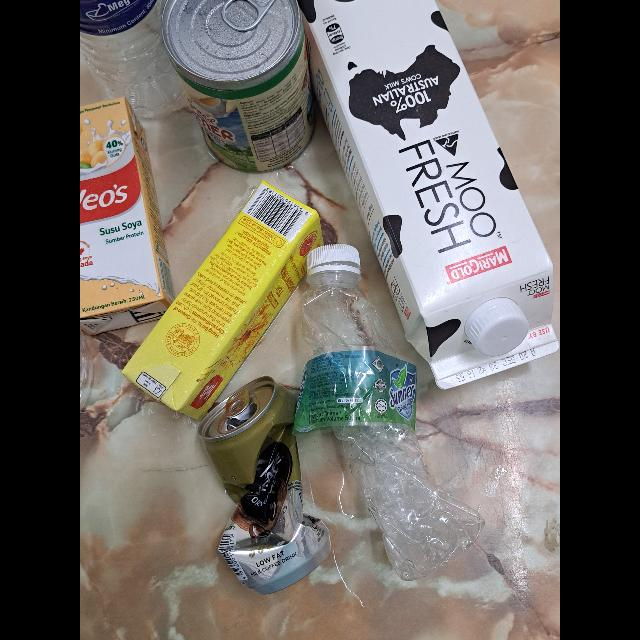aba de lata: (220, 1, 276, 32), (224, 388, 250, 418)
caixinha: (298, 1, 560, 392), (120, 180, 324, 422), (80, 96, 176, 338)
garrafa plástica: (296, 278, 484, 580), (80, 0, 194, 121)
lata: (198, 376, 330, 594), (162, 0, 318, 174)
tampa plástica: (467, 301, 529, 357), (306, 242, 362, 276)
